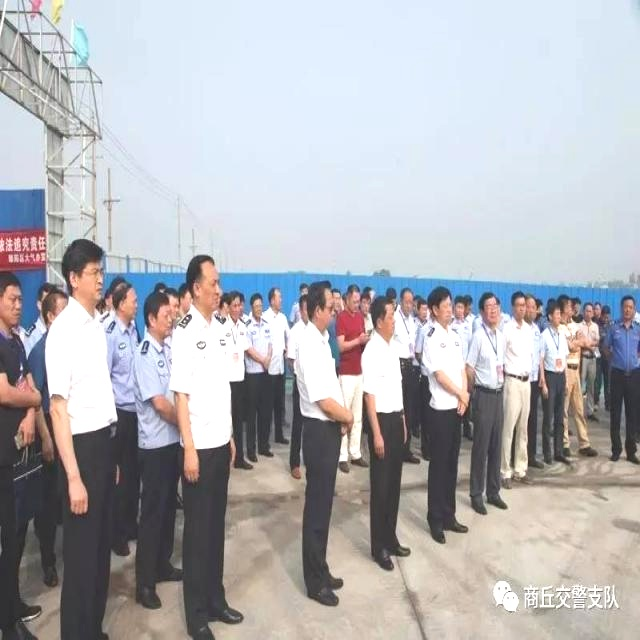Sin_Casco_Mascarrilla: (63, 237, 106, 306), (186, 253, 222, 311)
Sin_Chaleco: (294, 323, 343, 421), (427, 323, 469, 410), (364, 333, 404, 416)
